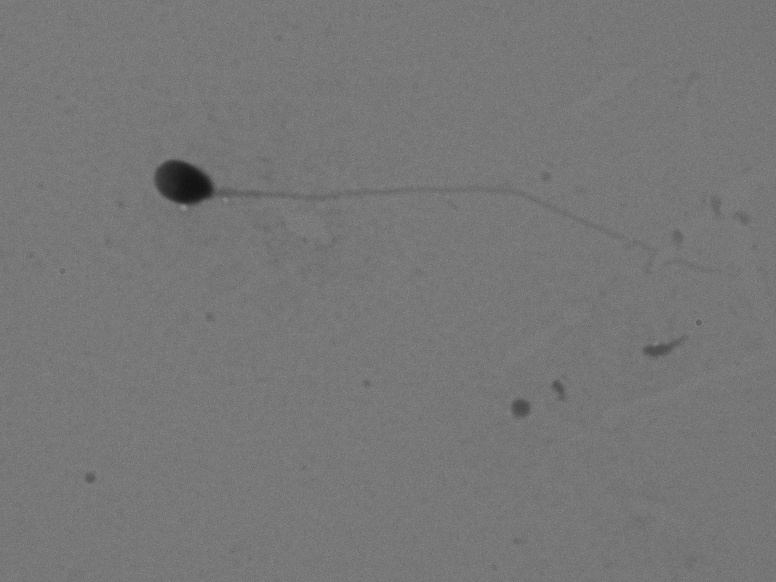Normal: (136, 145, 740, 298)
